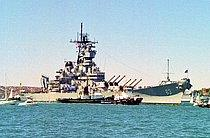MIL_Ship: (18, 21, 190, 104)
